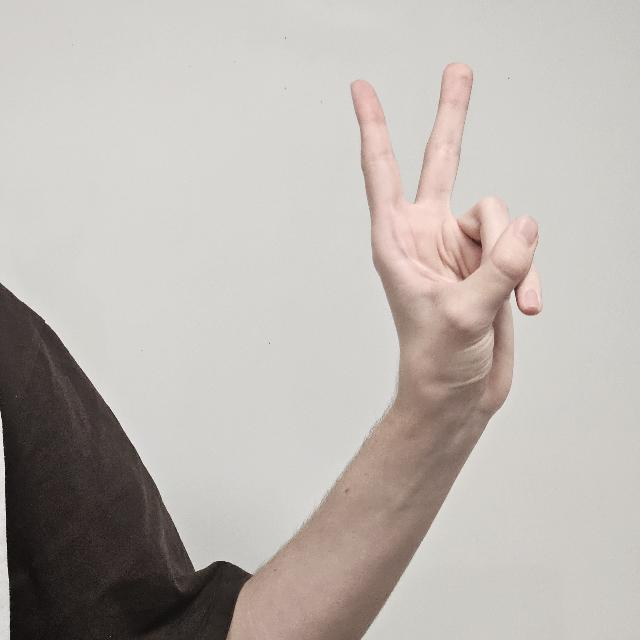Triangulo: (331, 61, 563, 477)
